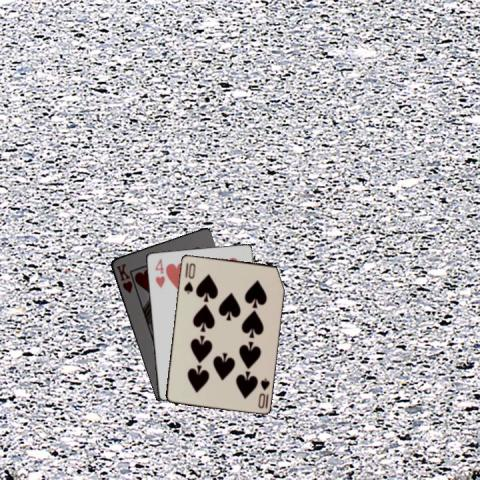10s: (180, 260, 196, 295), (254, 376, 270, 410)
4h: (152, 256, 165, 289)
Kh: (113, 260, 133, 294)
